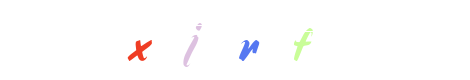F: (242, 0, 322, 80)
J: (195, 0, 275, 80)
R: (208, 0, 288, 80)
X: (100, 0, 180, 80)
